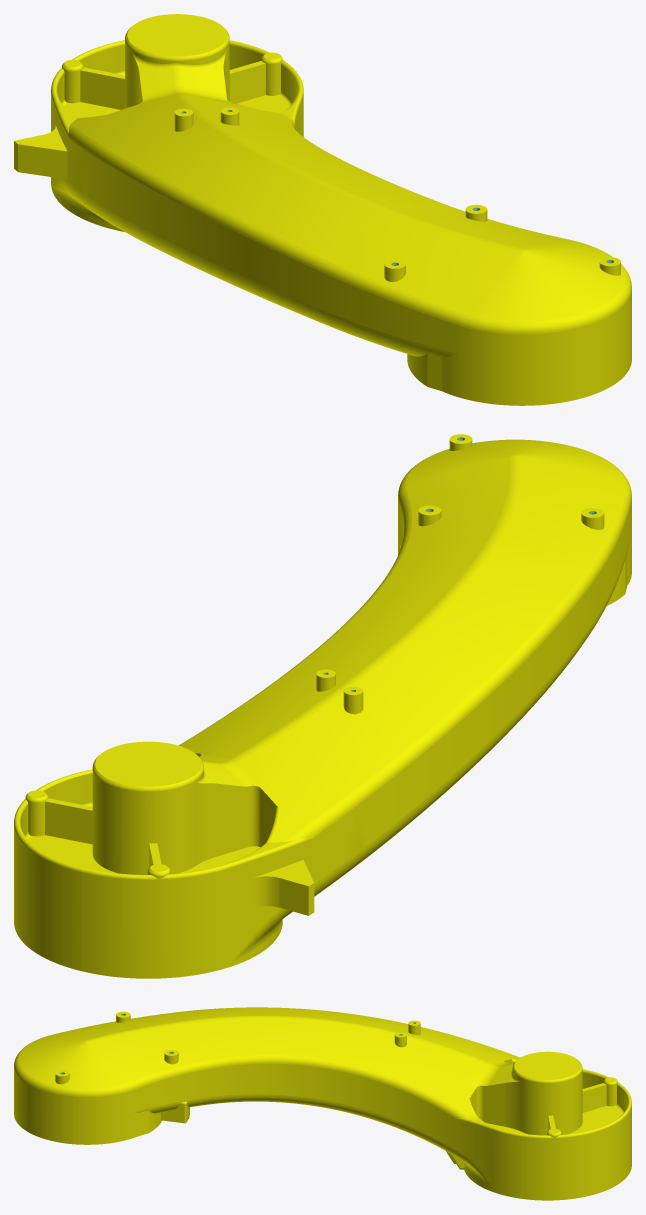
The picture shows the model from 3 angles, top to bottom: view 1: azimuth 30°, elevation 25°; view 2: azimuth 150°, elevation 25°; view 3: azimuth 270°, elevation 25°; orthographic projection. The views are drawn at different scales.
Parts seen in each view (by area): view 1: Mesh_0; view 2: Mesh_0; view 3: Mesh_0.
Part boxes in pixels (x1,y1,x2,y2): Mesh_0: [14, 14, 631, 405]; Mesh_0: [14, 434, 631, 978]; Mesh_0: [14, 1007, 631, 1200].
Bounding box in the file's own units: 0.4131 × 0.2661 × 1.2.
